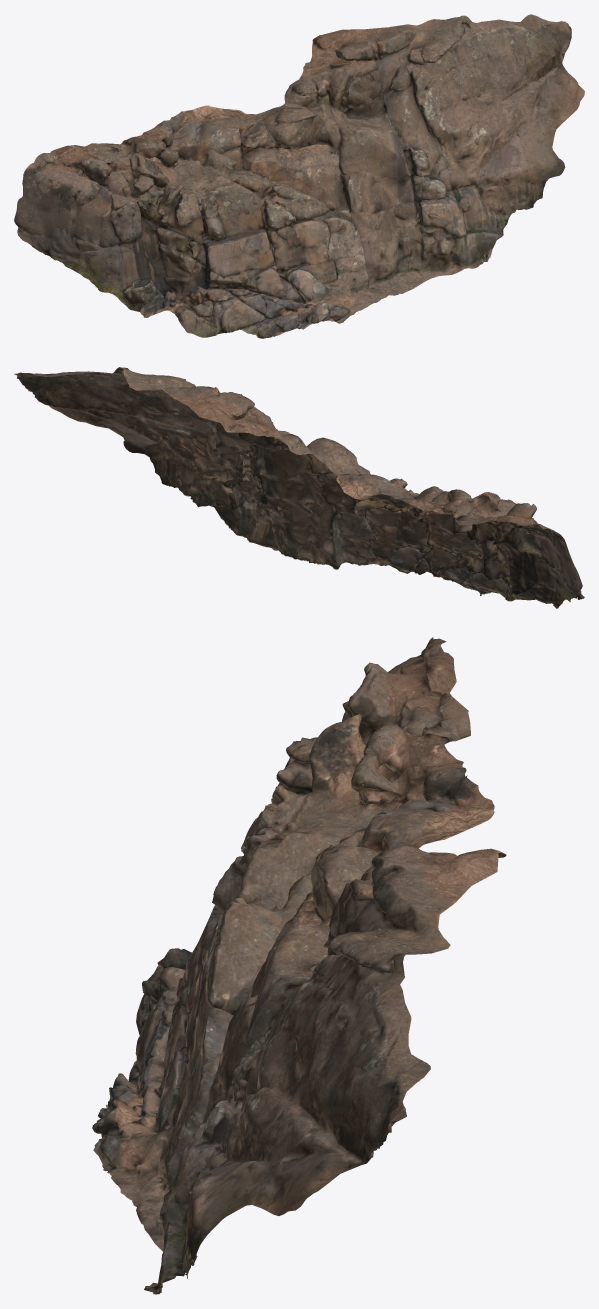
File: namaqualand_cliff_02.glb
3 views of the same model, one above another, from view 1: azimuth 30°, elevation 25°; view 2: azimuth 150°, elevation 25°; view 3: azimuth 270°, elevation 25° (orthographic). The views are drawn at different scales.
Parts seen in each view (by area): view 1: drone_rock_02_LOD0; view 2: drone_rock_02_LOD0; view 3: drone_rock_02_LOD0.
Boxes of the visible parts, x1,y1,x2,y2 form: drone_rock_02_LOD0: (14, 14, 584, 338); drone_rock_02_LOD0: (14, 367, 584, 608); drone_rock_02_LOD0: (92, 637, 506, 1294).
Size of the model in its own units: 20.23 by 7.18 by 6.59.
Materials: 1 (1 with a texture image).
